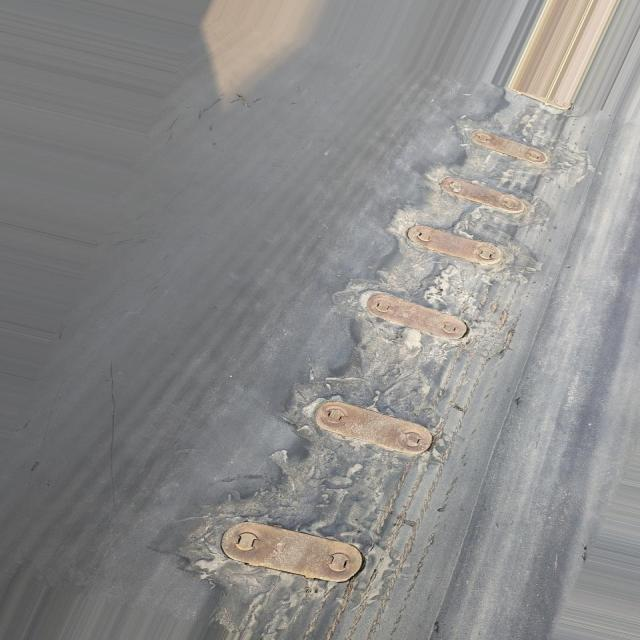patch work: (159, 84, 590, 640)
